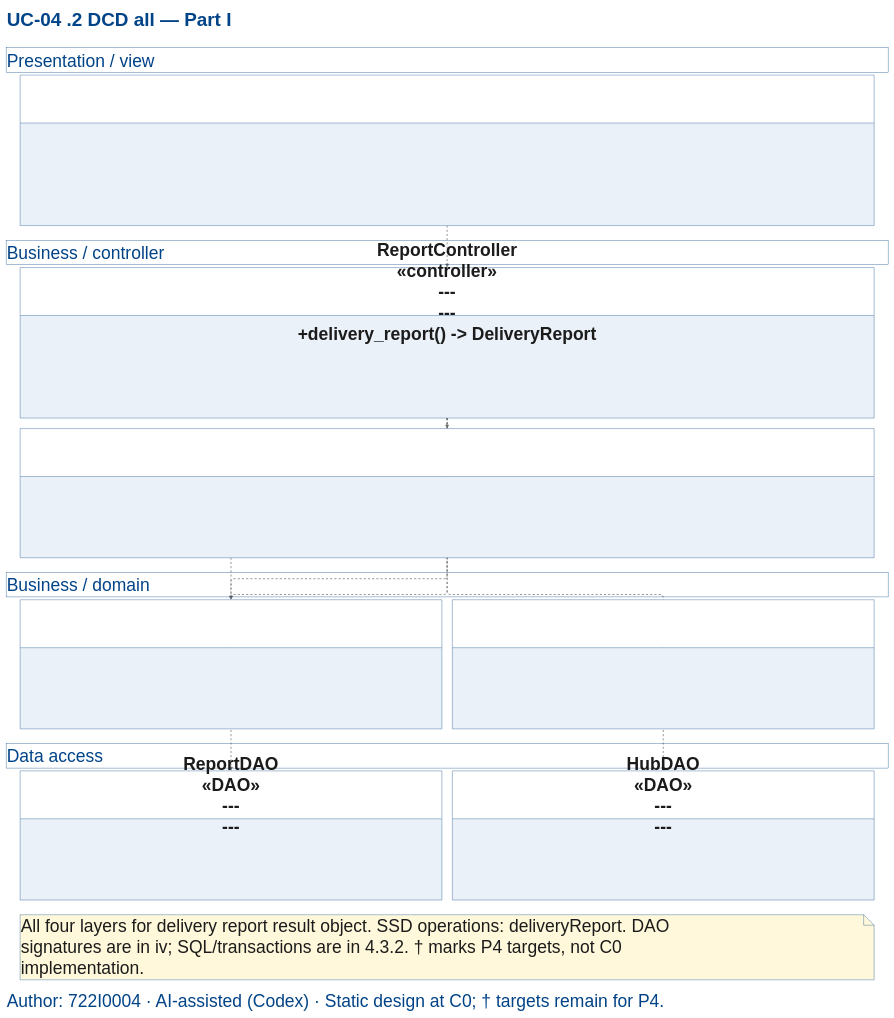
The diagram is 894 pixels wide and 1018 high, and some of its shapes have lost their labels. Here are the shapes that lost their labels. From the top down, the centre of each, then its label:
At point (447, 150): "reports «view» --- --- +delivery() *".
At point (447, 493): "DeliveryReport «value» --- ---".
At point (231, 664): "Hub «entity» --- ---".
At point (663, 664): "DeliveryState «enumeration» --- ---".
